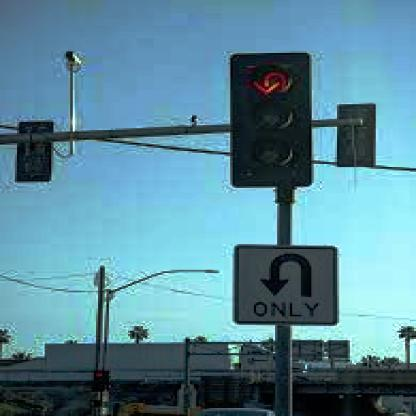U-turn: (240, 244, 342, 301)
